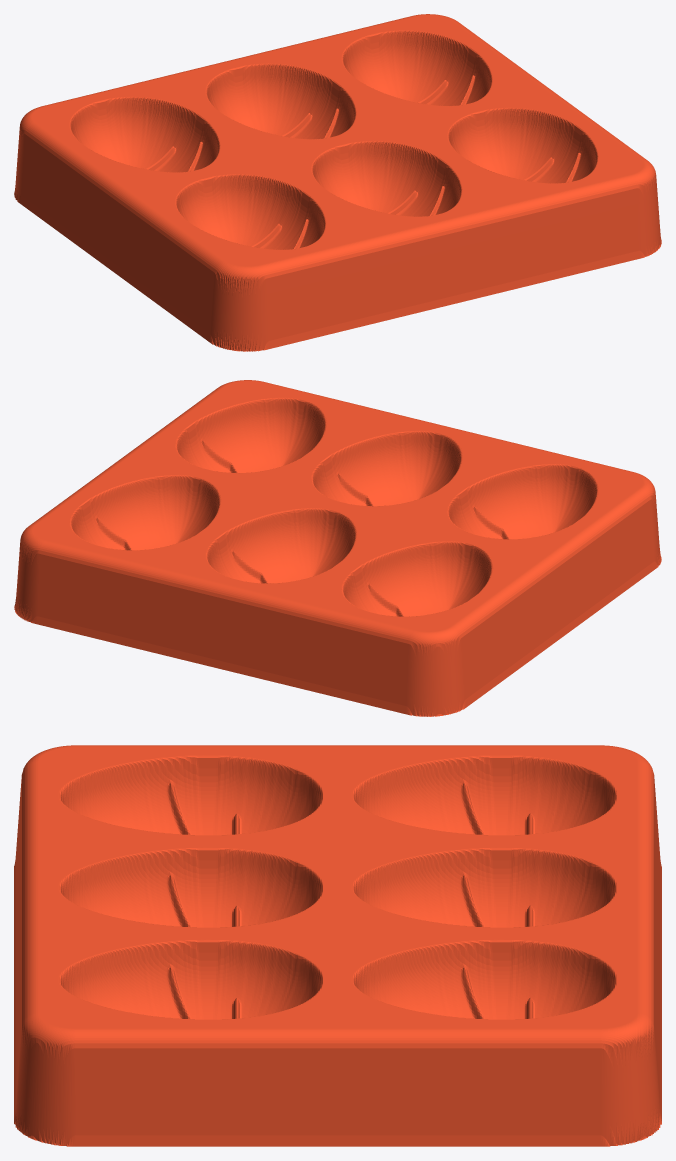
Rendered from mold.glb.
3 views of the same model, one above another, from view 1: azimuth 30°, elevation 25°; view 2: azimuth 150°, elevation 25°; view 3: azimuth 270°, elevation 25° (orthographic). The views are drawn at different scales.
Visible parts, largest first — view 1: geometry_0; view 2: geometry_0; view 3: geometry_0.
Part boxes in pixels (left/top/right/bottom): geometry_0: left=14, top=14, right=661, bottom=351; geometry_0: left=14, top=380, right=661, bottom=716; geometry_0: left=14, top=745, right=661, bottom=1146.
Bounding box in the file's own units: 0.1054 × 0.0175 × 0.0955.
